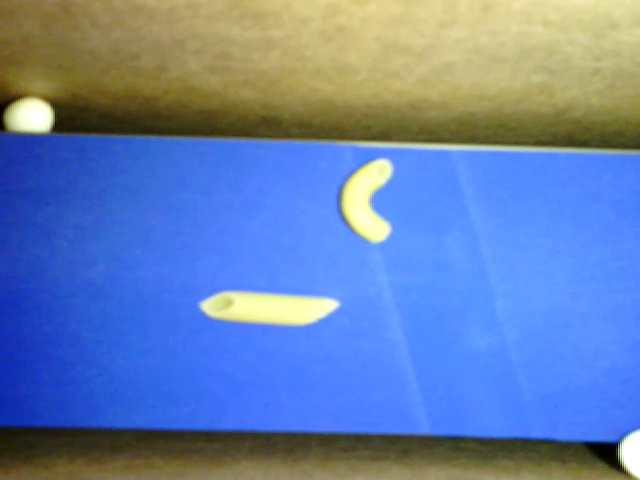elbow: (340, 156, 391, 244)
penne: (197, 288, 339, 326)
